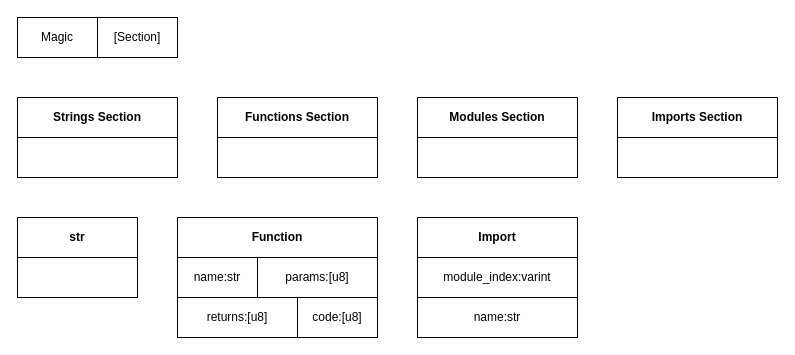
Image size: 795x355. Some labels were removed from this diagram. The centre of each missing label's shape, as x and y in pixels:
"funcs:[Function]" goes at point 297,157.
"imports:[Import]" goes at point 697,157.
"modules:[str]" goes at point 497,157.
"strings:[str]" goes at point 97,157.
"value:[u8]" goes at point 77,277.
